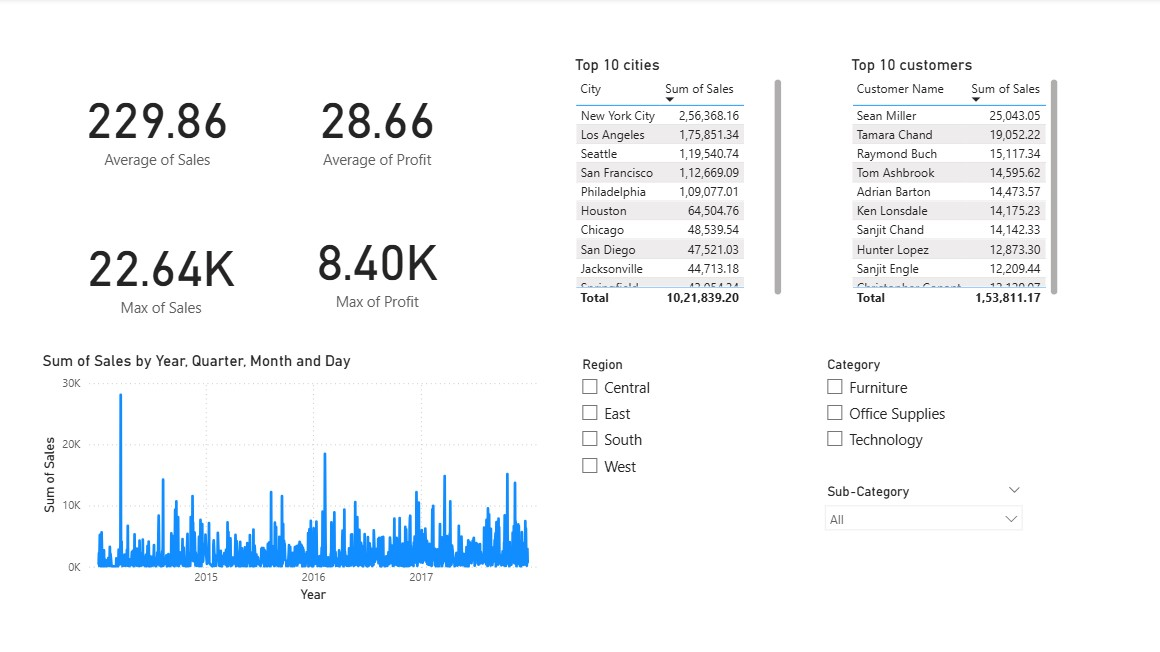

The page's visual inventory and layout, read from the dashboard file:
{"tool":"powerbi","page":{"name":"Dashboard","canvas":[1280,720],"ordinal":2},"visuals":[{"type":"tableEx","title":"Top 10 cities","fields":{"Values":["Superstore.City","Sum(Superstore.Sales)"]},"box":[628.5,63.1,237.4,279.9],"z":0},{"type":"tableEx","title":"Top 10 customers","fields":{"Values":["Superstore.Customer Name","Sum(Superstore.Sales)"]},"box":[931.7,63.1,237.4,279.9],"z":1000},{"type":"lineChart","fields":{"Y":["Sum(Superstore.Sales)"],"Category":["Superstore.Order Date.Variation.Date Hierarchy.Year","Superstore.Order Date.Variation.Date Hierarchy.Quarter","Superstore.Order Date.Variation.Date Hierarchy.Month","Superstore.Order Date.Variation.Date Hierarchy.Day"]},"box":[43.9,388.3,555.7,279.9],"z":2000},{"type":"slicer","fields":{"Values":["Superstore.Category"]},"box":[897.4,388.3,237.4,129],"z":3000},{"type":"slicer","fields":{"Values":["Superstore.Sub-Category"]},"box":[897.4,528.3,237.4,104.3],"z":4000},{"type":"slicer","fields":{"Values":["Superstore.Region"]},"box":[628.5,388.3,237.4,192.1],"z":5000},{"type":"card","fields":{"Values":["Avg(Superstore.Sales)"]},"box":[56.3,63.1,237.4,150.9],"z":6000},{"type":"card","fields":{"Values":["Avg(Superstore.Profit)"]},"box":[297.8,63.1,237.4,150.9],"z":7000},{"type":"card","fields":{"Values":["Max(Superstore.Sales)"]},"box":[60.4,214.1,237.4,174.3],"z":8000},{"type":"card","fields":{"Values":["Max(Superstore.Profit)"]},"box":[340.3,230.5,152.3,129],"z":9000}]}

Visuals, with their boxes in screenshot pixels (x1, y1, x2, y2), scaled from the page's 1280x720 canvas onto the 1160x652 screenshot:
"Top 10 cities" tableEx: <region>570, 57, 785, 311</region>
"Top 10 customers" tableEx: <region>844, 57, 1059, 311</region>
lineChart - Sum(Superstore.Sales) x Superstore.Order Date.Variation.Date Hierarchy.Year: <region>40, 352, 543, 605</region>
slicer - Superstore.Category: <region>813, 352, 1028, 468</region>
slicer - Superstore.Sub-Category: <region>813, 478, 1028, 573</region>
slicer - Superstore.Region: <region>570, 352, 785, 526</region>
card - Avg(Superstore.Sales): <region>51, 57, 266, 194</region>
card - Avg(Superstore.Profit): <region>270, 57, 485, 194</region>
card - Max(Superstore.Sales): <region>55, 194, 270, 352</region>
card - Max(Superstore.Profit): <region>308, 209, 446, 326</region>
